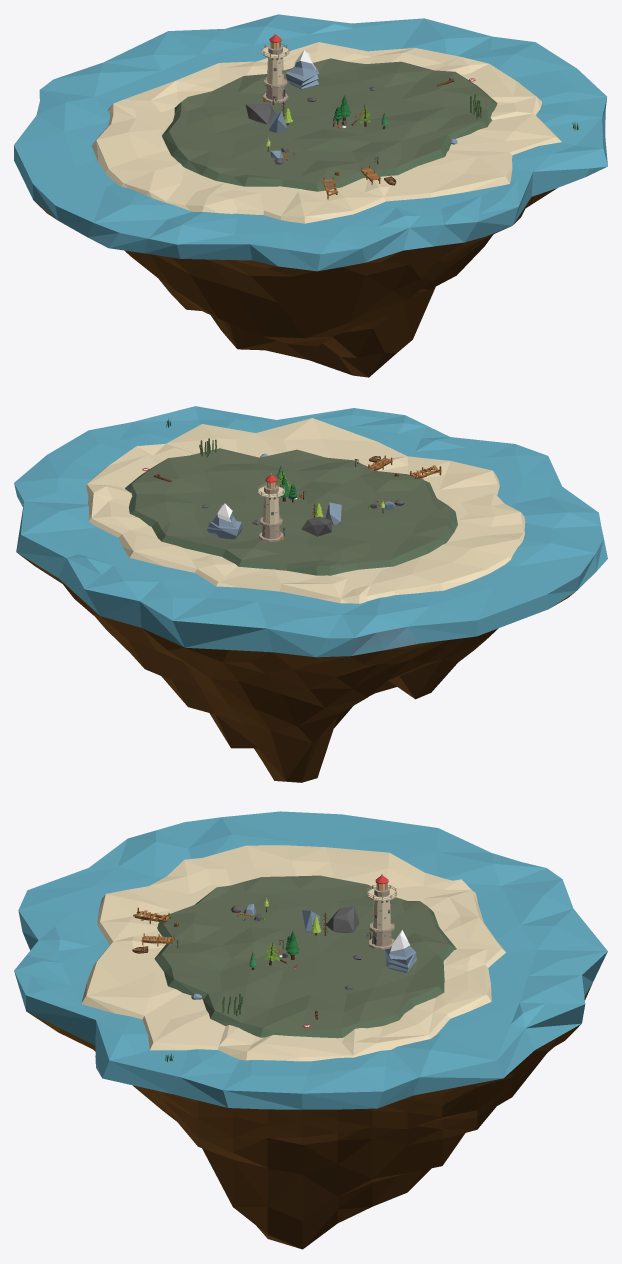
File: island.glb
The picture shows the model from 3 angles, top to bottom: view 1: azimuth 30°, elevation 25°; view 2: azimuth 150°, elevation 25°; view 3: azimuth 270°, elevation 25°; orthographic projection. The views are drawn at different scales.
Parts seen in each view (by area): view 1: M_Floating_Base, M_Light House, M_Rock 1; view 2: M_Floating_Base, M_Light House, M_Rock 1; view 3: M_Floating_Base, M_Light House, M_Rock 1, M_Rock 11.
Boxes of the visible parts, box(x1,y1,x2,y2) form: M_Floating_Base: box(14, 14, 607, 377); M_Light House: box(261, 33, 289, 102); M_Rock 1: box(286, 50, 319, 89); M_Floating_Base: box(14, 406, 607, 782); M_Light House: box(257, 473, 284, 541); M_Rock 1: box(207, 503, 242, 539); M_Floating_Base: box(14, 811, 607, 1249); M_Light House: box(367, 874, 396, 949); M_Rock 1: box(384, 930, 416, 972); M_Rock 11: box(326, 906, 359, 932).
Bounding box in the file's own units: 23.55 × 13.77 × 20.95.
3 materials, 3 textured.
